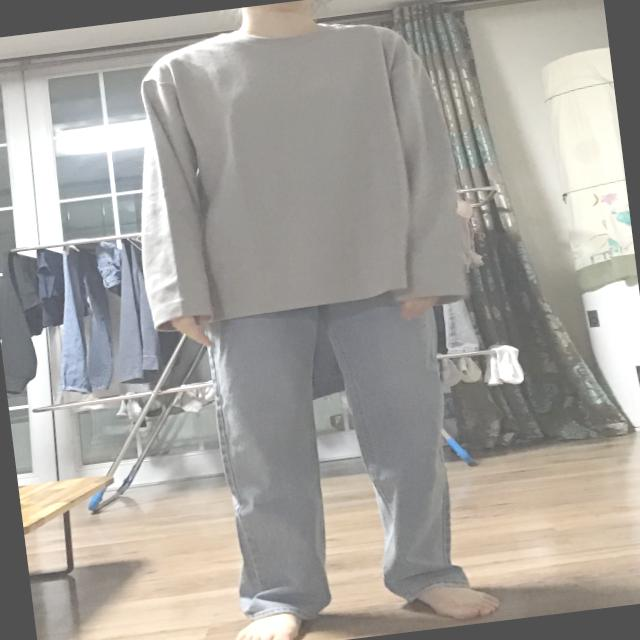denimpants: (201, 285, 475, 627)
longsleeve: (113, 8, 462, 346)
